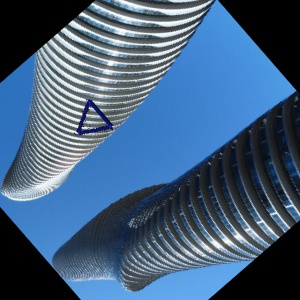triangle: (76, 96, 114, 135)
